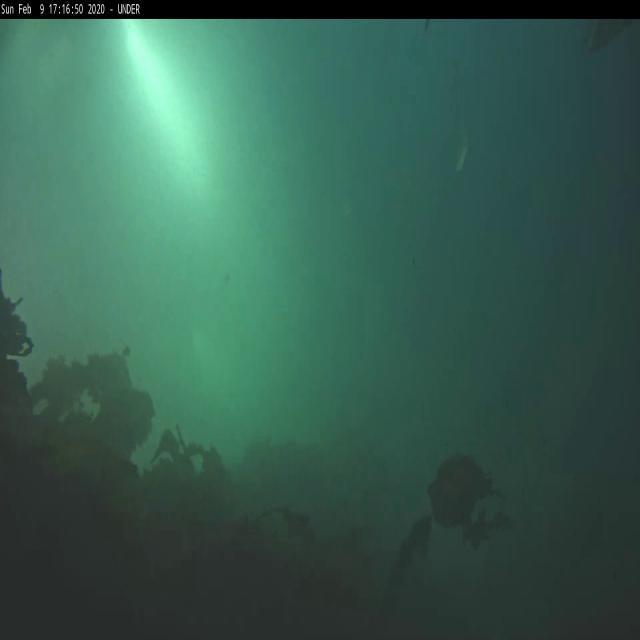fish: (453, 139, 471, 172)
